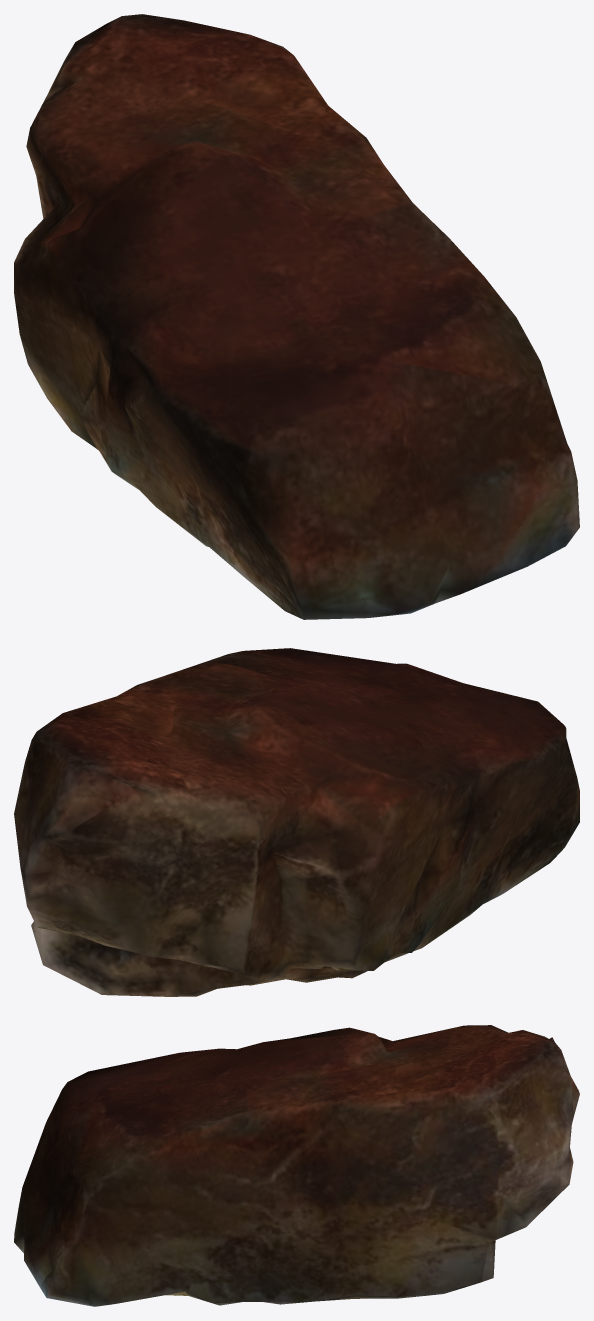
The model's file is rock_07.glb.
3 views of the same model, one above another, from view 1: azimuth 30°, elevation 25°; view 2: azimuth 150°, elevation 25°; view 3: azimuth 270°, elevation 25° (orthographic). The views are drawn at different scales.
Parts seen in each view (by area): view 1: rock_07; view 2: rock_07; view 3: rock_07.
Part boxes in pixels (<box>): rock_07: <box>14,14,579,619</box>; rock_07: <box>14,648,579,996</box>; rock_07: <box>14,1025,579,1306</box>.
Size of the model in its own units: 0.1675 by 0.1434 by 0.3194.
Materials: 1 (1 with a texture image).
